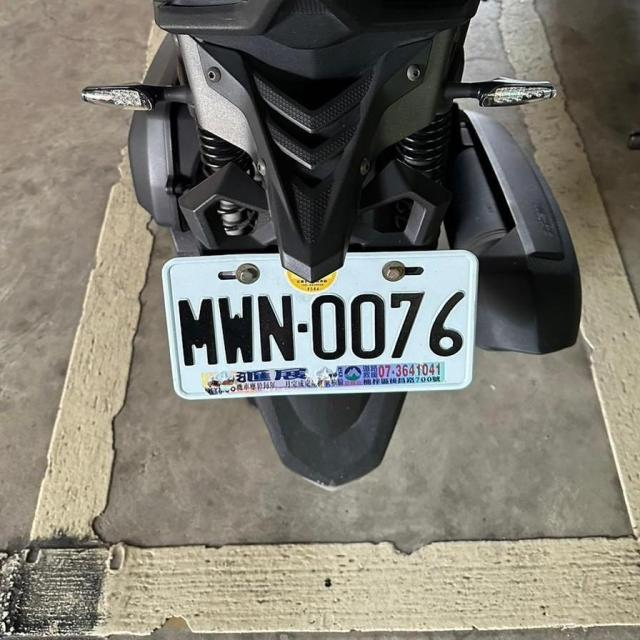W: (152, 241, 484, 406)
